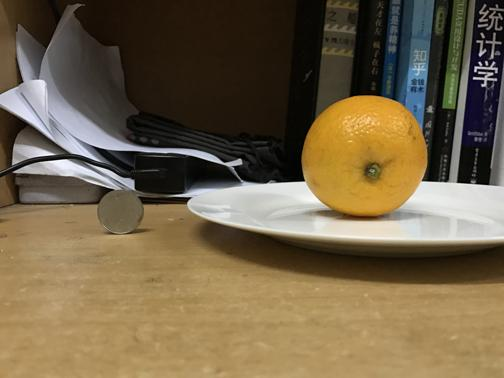coin: (96, 188, 144, 233)
orange: (303, 96, 427, 215)
